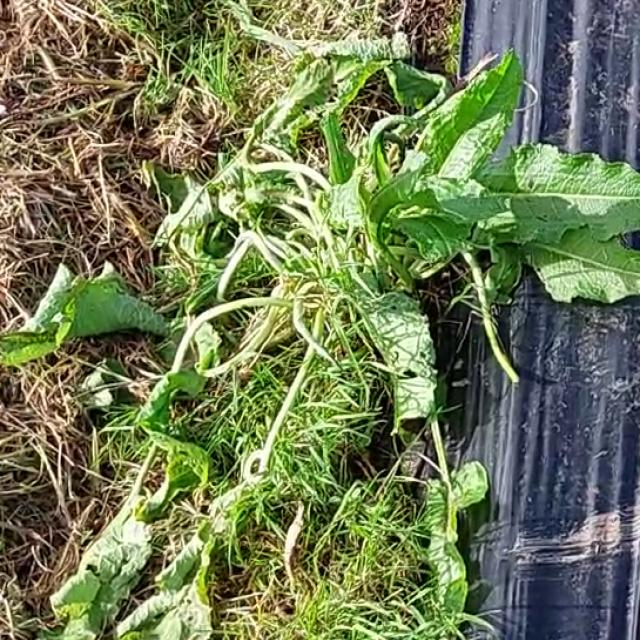organic waste: (178, 10, 586, 402), (123, 111, 640, 352), (306, 309, 542, 640), (70, 349, 337, 640), (0, 246, 260, 409)
